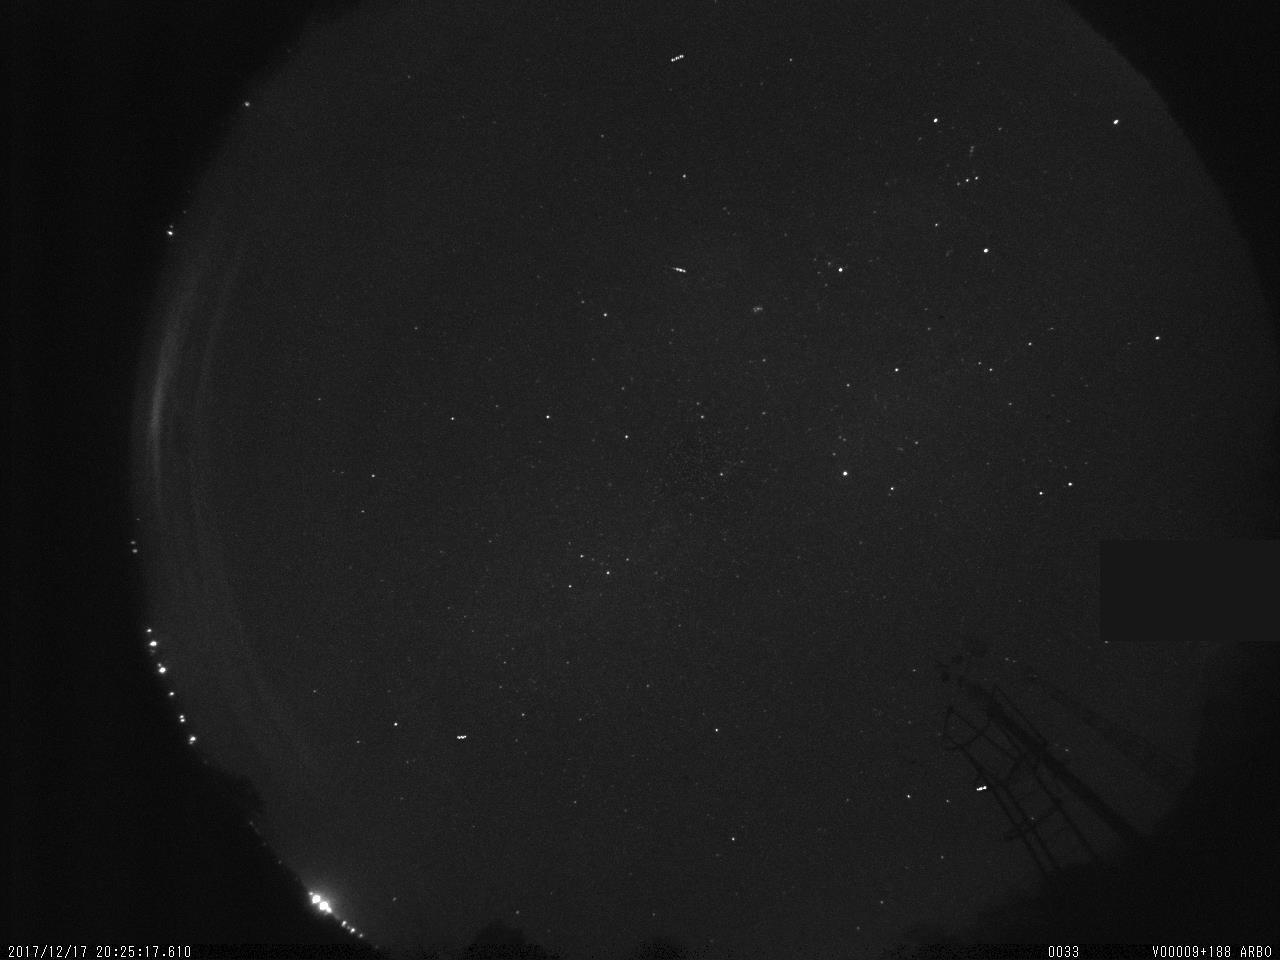meteor: (659, 256, 698, 282)
